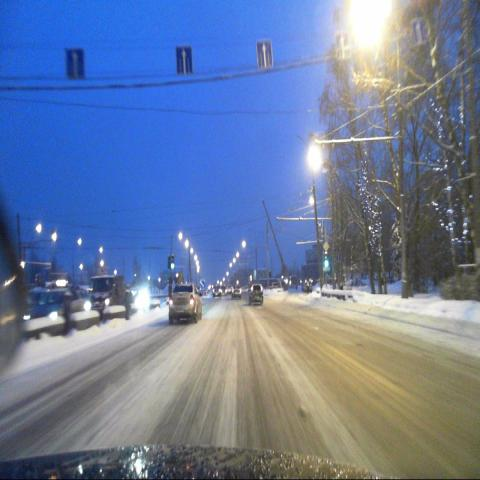5_15_2: (65, 46, 84, 80)
